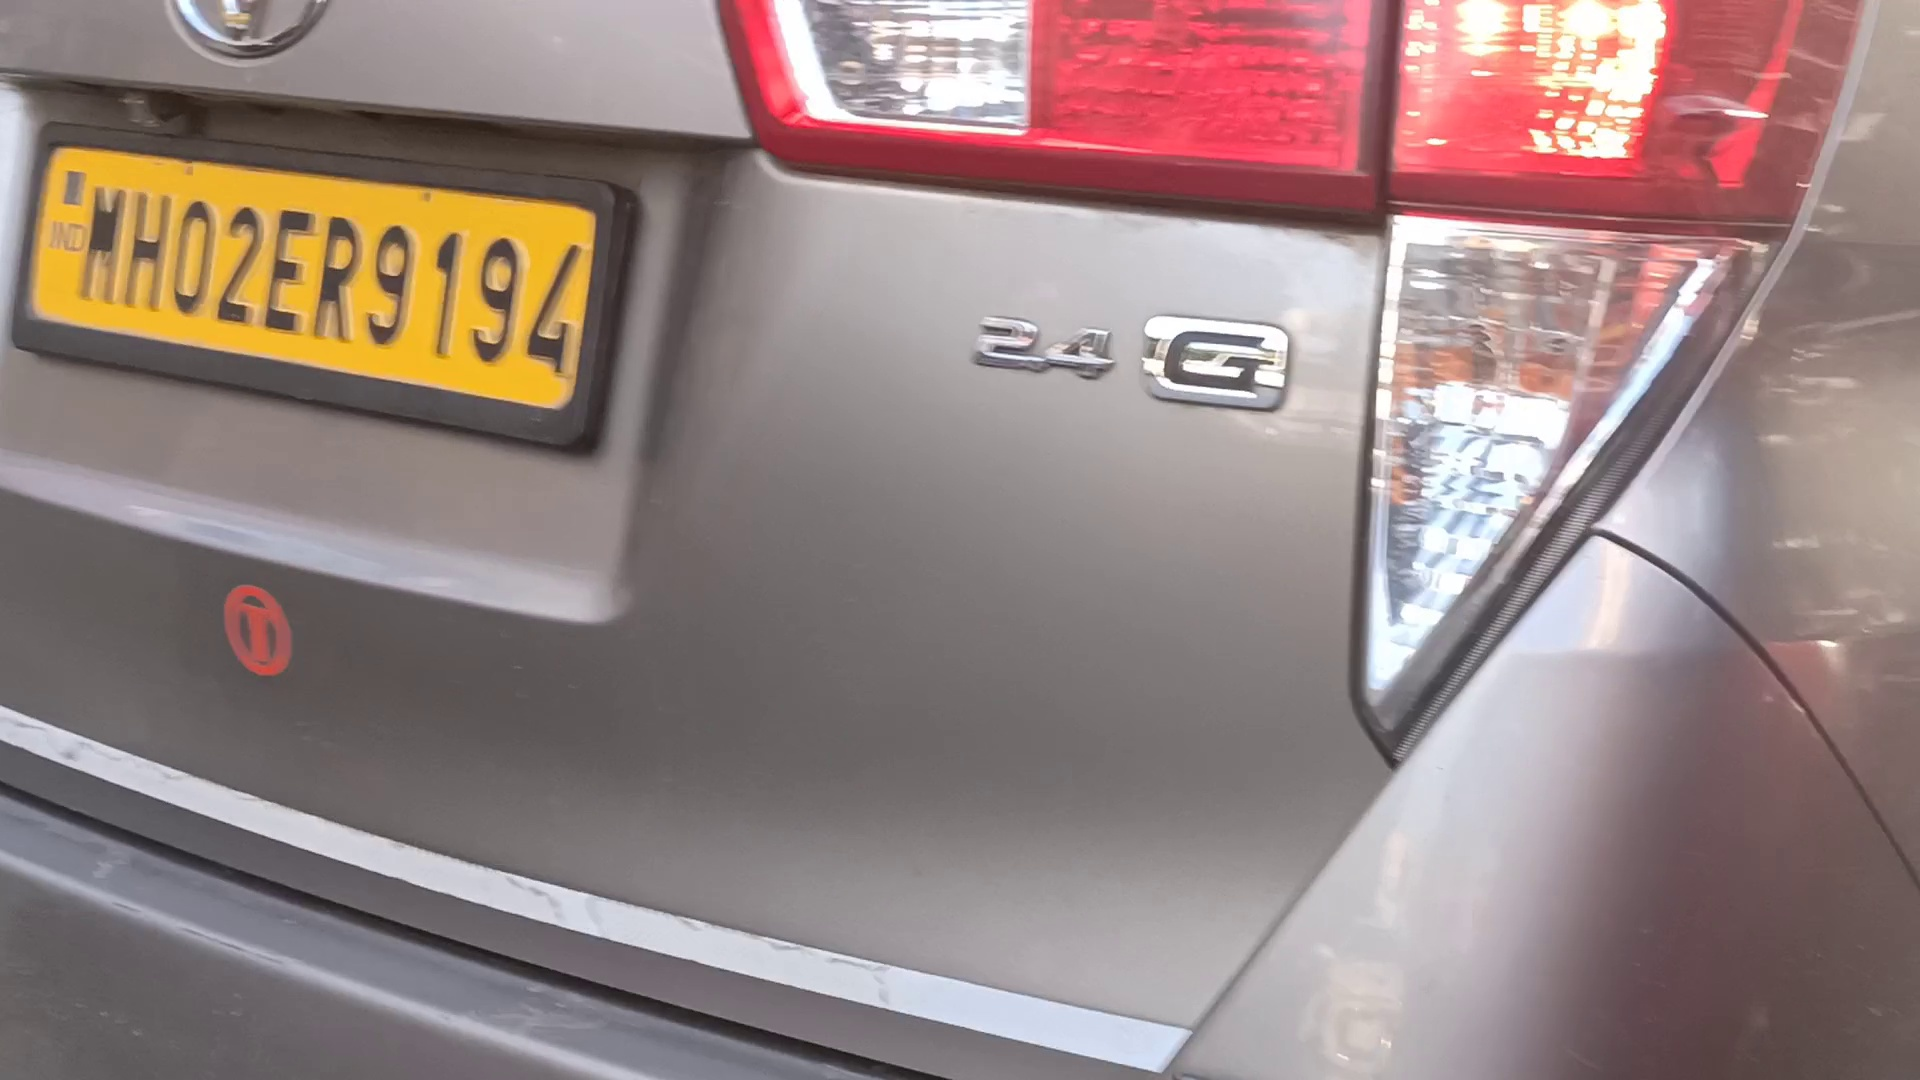MH02ER9194: (21, 145, 598, 408)
